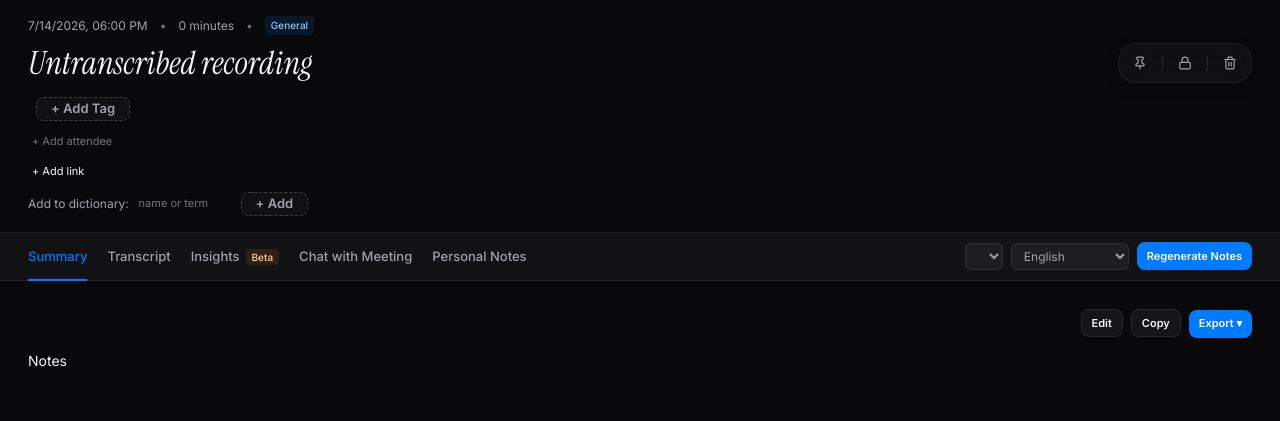
Test: NoteViewer transcript tab › copies labeled turns as clean plain text
The width and height of the screenshot is (1280, 421).
Click the button "Transcript" at point(139, 256), box [107,232,171,280]
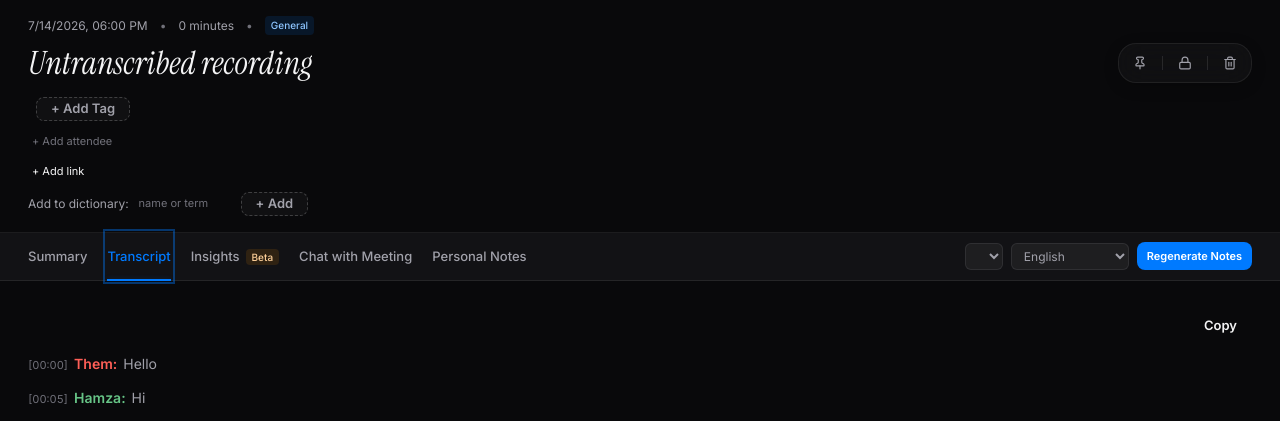
Click the button "Copy" at point(1220, 325), box [1189,309,1252,341]
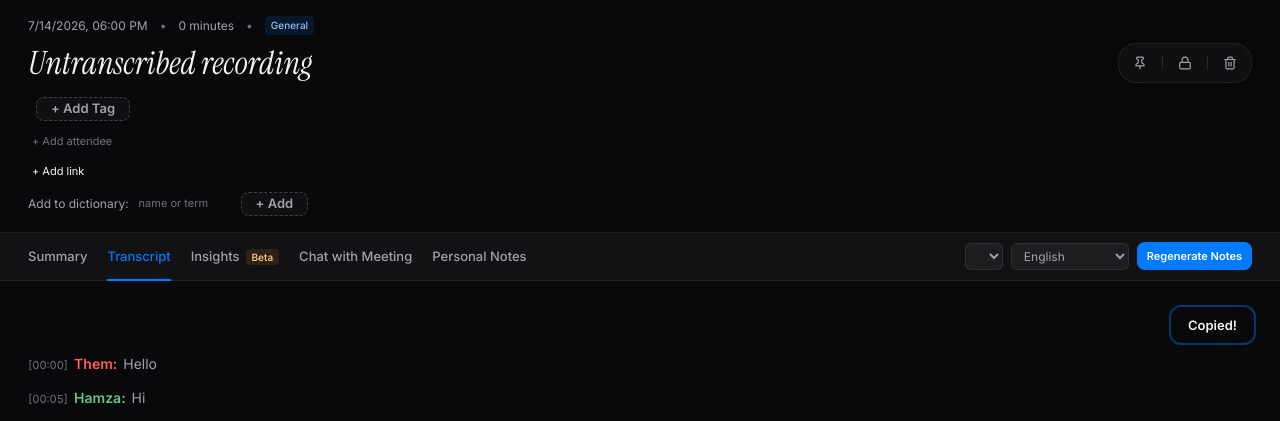
Now the button "Copied!" is shown, box [1173,309,1252,341]
